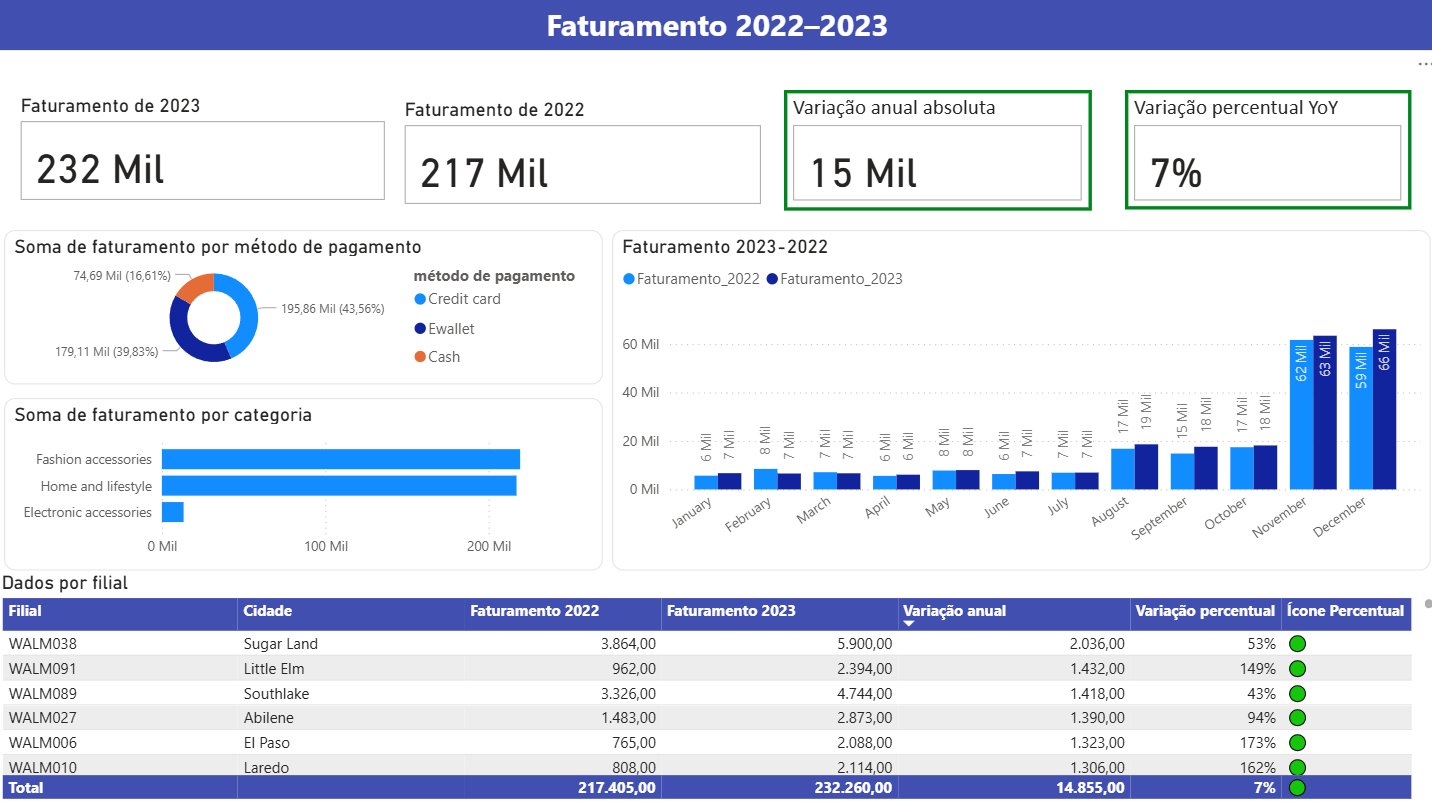

The dashboard page shown, as its layout file describes it:
{"tool":"powerbi","page":{"name":"Página 1","canvas":[1280,720],"ordinal":0},"visuals":[{"type":"cardVisual","title":"Faturamento de 2023","fields":{"Data":["Data.Faturamento_2023"]},"box":[16.4,90.4,333.2,99.5],"z":1000},{"type":"cardVisual","title":"Faturamento de 2022","fields":{"Data":["Data.Faturamento_2022"]},"box":[357,94,326.8,99.5],"z":2000},{"type":"cardVisual","title":"Variação anual absoluta","fields":{"Data":["Data.Diferença_faturamento"]},"box":[698.4,86.7,273,106.8],"z":3000},{"type":"cardVisual","title":"Variação percentual YoY","fields":{"Data":["Data.Variacao_percentual"]},"box":[1001.1,86.9,253.6,106.4],"z":4000},{"type":"clusteredColumnChart","title":"Faturamento 2023-2022","fields":{"Y":["Data.Faturamento_2022","Data.Faturamento_2023"],"Category":["Data.mês"]},"box":[546.2,211,726.2,302.4],"z":5000},{"type":"barChart","fields":{"Category":["Venda.categoria"],"Y":["Sum(Venda.faturamento)"]},"box":[7.1,360,531.1,153.4],"z":6000},{"type":"donutChart","fields":{"Y":["Sum(Venda.faturamento)"],"Category":["Venda.método de pagamento"]},"box":[7.1,211,531.1,136.6],"z":7000},{"type":"tableEx","title":"Dados por filial","fields":{"Values":["Filial.id_filial","Filial.cidade","Data.Faturamento_2022","Data.Faturamento_2023","Data.Diferença_faturamento","Data.Variacao_percentual","Data.iconePercentual"]},"box":[0,513.4,1280.4,206.6],"z":8000},{"type":"textbox","box":[0,5.3,1279.5,47],"z":9000}]}

Visuals, with their boxes in screenshot pixels (x1, y1, x2, y2), scaled from the page's 1280x720 canvas onto the 1432x803 screenshot:
"Faturamento de 2023" cardVisual: box(18, 101, 391, 212)
"Faturamento de 2022" cardVisual: box(399, 105, 765, 216)
"Variação anual absoluta" cardVisual: box(781, 97, 1087, 216)
"Variação percentual YoY" cardVisual: box(1120, 97, 1404, 216)
"Faturamento 2023-2022" clusteredColumnChart: box(611, 235, 1423, 573)
barChart - Venda.categoria x Sum(Venda.faturamento): box(8, 402, 602, 573)
donutChart - Sum(Venda.faturamento) x Venda.método de pagamento: box(8, 235, 602, 388)
"Dados por filial" tableEx: box(0, 573, 1431, 802)
textbox: box(0, 6, 1431, 58)
